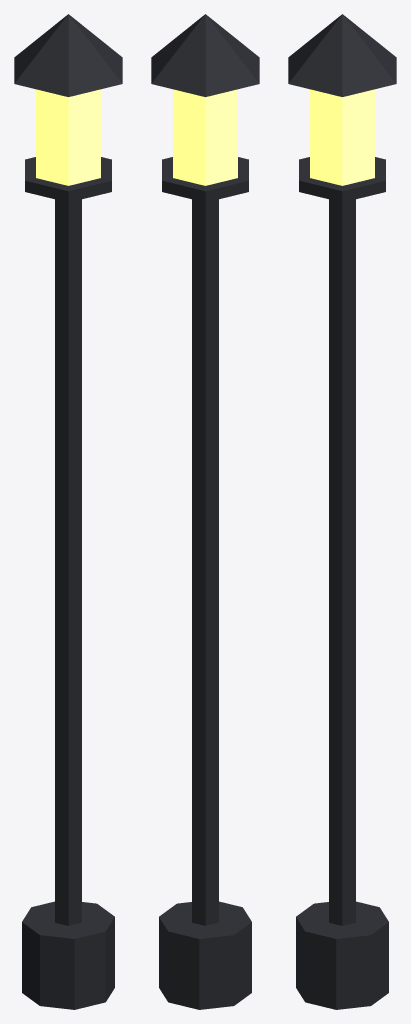
The model's file is lamp_post.glb.
3 views of the same model, side by side, from view 1: azimuth 30°, elevation 25°; view 2: azimuth 150°, elevation 25°; view 3: azimuth 330°, elevation 25° (orthographic).
Parts seen in each view (by area): view 1: lamp_post; view 2: lamp_post; view 3: lamp_post.
Part boxes in pixels (x1,y1,x2,y2): lamp_post: (14,14,122,1009); lamp_post: (151,14,259,1009); lamp_post: (288,14,396,1009).
Size of the model in its own units: 0.4 by 3.44 by 0.3464.
